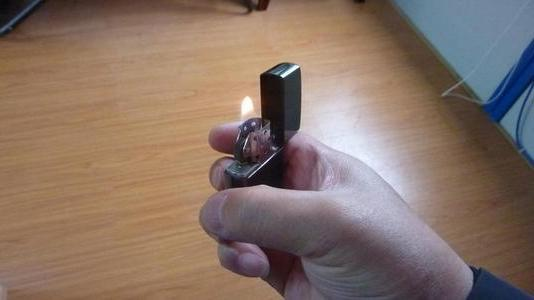fire: (225, 89, 263, 138)
